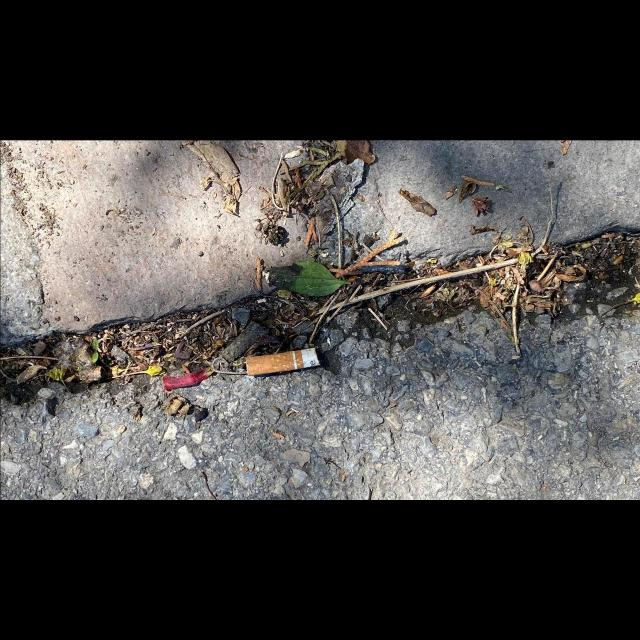cigarette: (246, 346, 320, 376)
